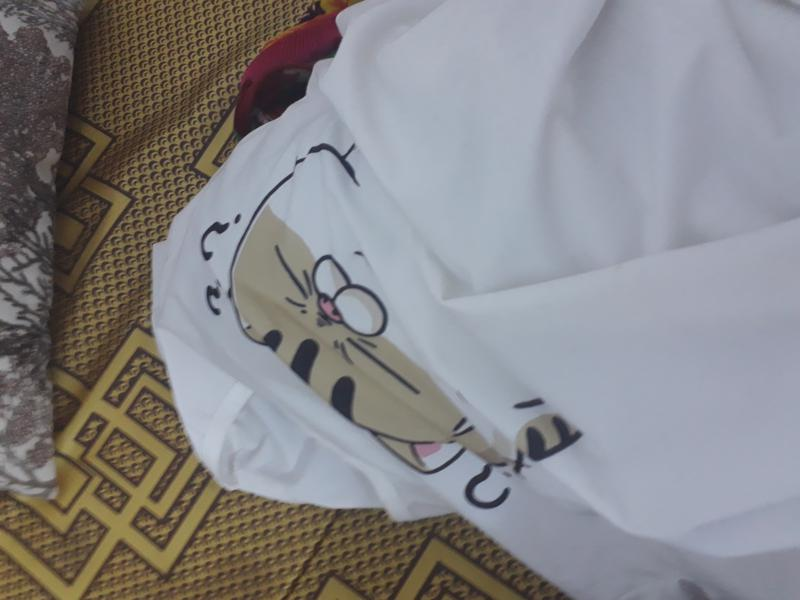fat cat: (198, 135, 585, 508)
